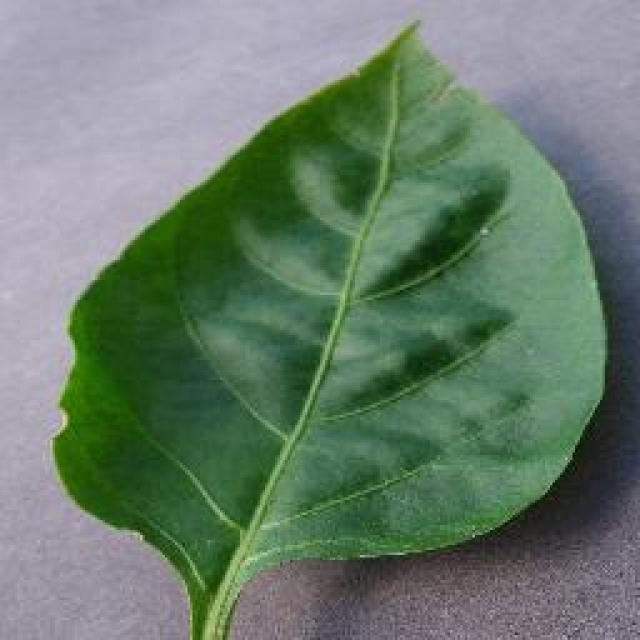Chilli_Healthy: (48, 15, 610, 637)
